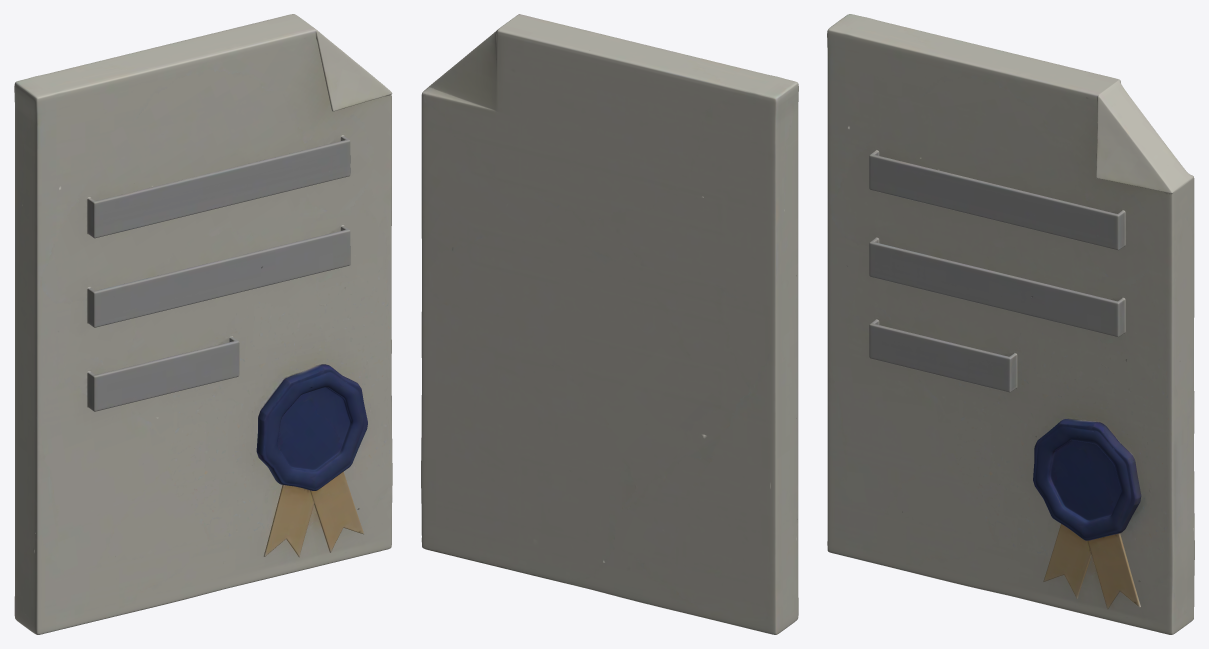
3 views of the same model, side by side, from view 1: azimuth 30°, elevation 25°; view 2: azimuth 150°, elevation 25°; view 3: azimuth 330°, elevation 25° (orthographic). The views are drawn at different scales.
Visible parts, largest first — view 1: material; view 2: material; view 3: material.
Boxes of the visible parts, bbox=[...] form: material: bbox=[14, 14, 392, 634]; material: bbox=[421, 14, 798, 634]; material: bbox=[827, 14, 1194, 634].
Bounding box in the file's own units: 0.6827 × 0.9874 × 0.1087.
1 material, 1 textured.
